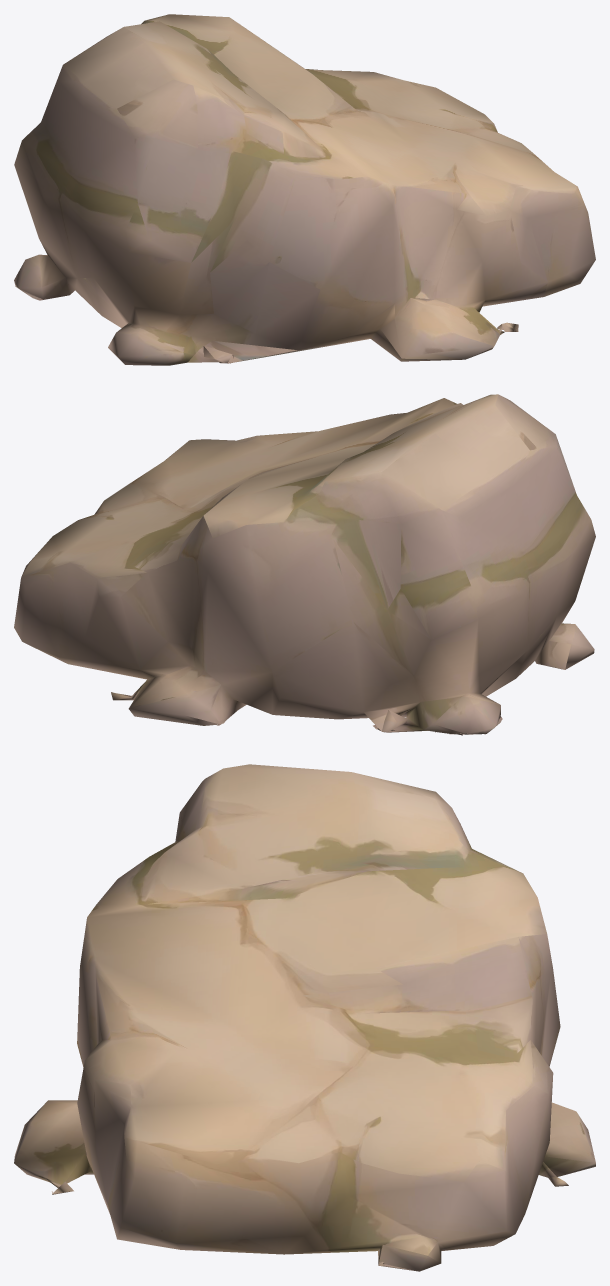
The model's file is Manor_Rock_01.glb.
3 renders of one model, top to bottom at view 1: azimuth 30°, elevation 25°; view 2: azimuth 150°, elevation 25°; view 3: azimuth 270°, elevation 25°, orthographic. The views are drawn at different scales.
Visible parts, largest first — view 1: Manor_Rock_01.001; view 2: Manor_Rock_01.001; view 3: Manor_Rock_01.001.
Boxes of the visible parts, x1=… form: Manor_Rock_01.001: x1=14, y1=14, x2=595, y2=365; Manor_Rock_01.001: x1=14, y1=394, x2=595, y2=735; Manor_Rock_01.001: x1=14, y1=764, x2=595, y2=1271.
Size of the model in its own units: 1 by 0.5088 by 0.9275.
1 material, 1 textured.
